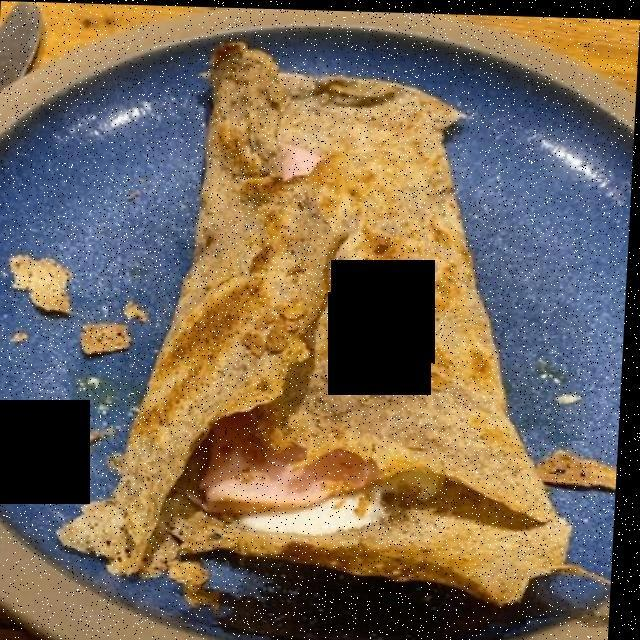egg: (244, 465, 426, 537)
